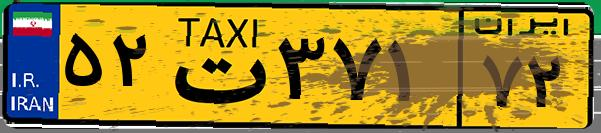1: (385, 28, 445, 110)
2: (525, 38, 570, 115), (110, 28, 158, 98)
3: (270, 28, 330, 110)
5: (57, 26, 110, 100)
7: (330, 28, 385, 110), (475, 38, 525, 113)
ت: (158, 12, 270, 120)
